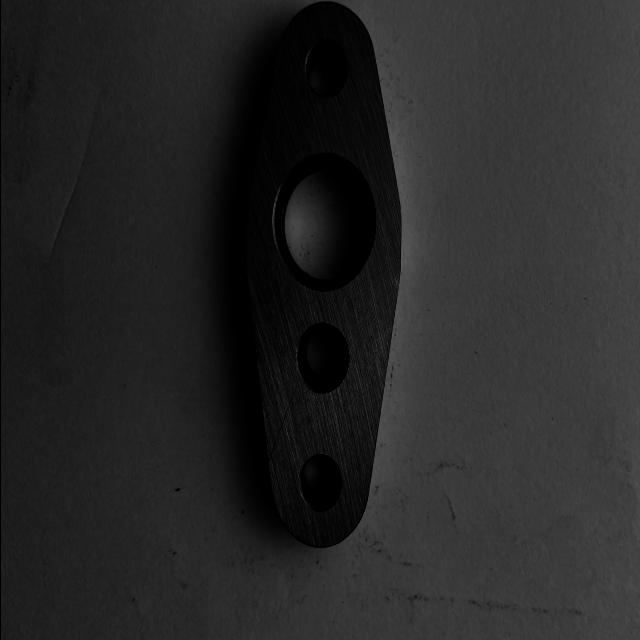lines: (268, 380, 300, 462)
